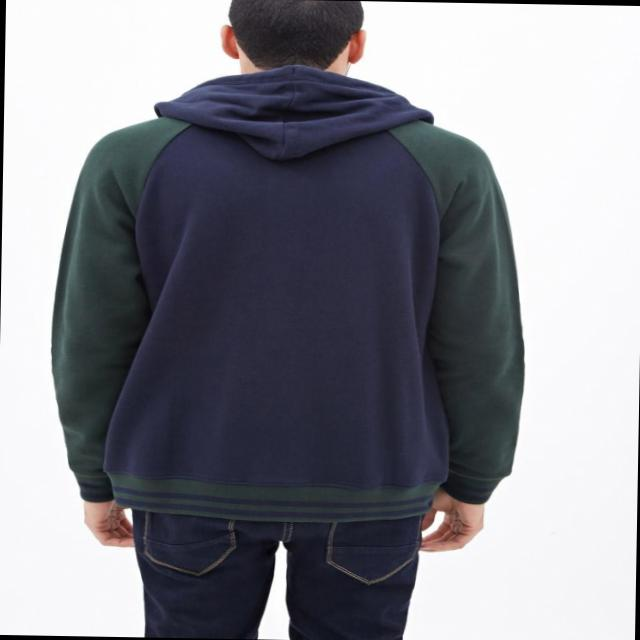Jacket: (39, 81, 536, 528)
